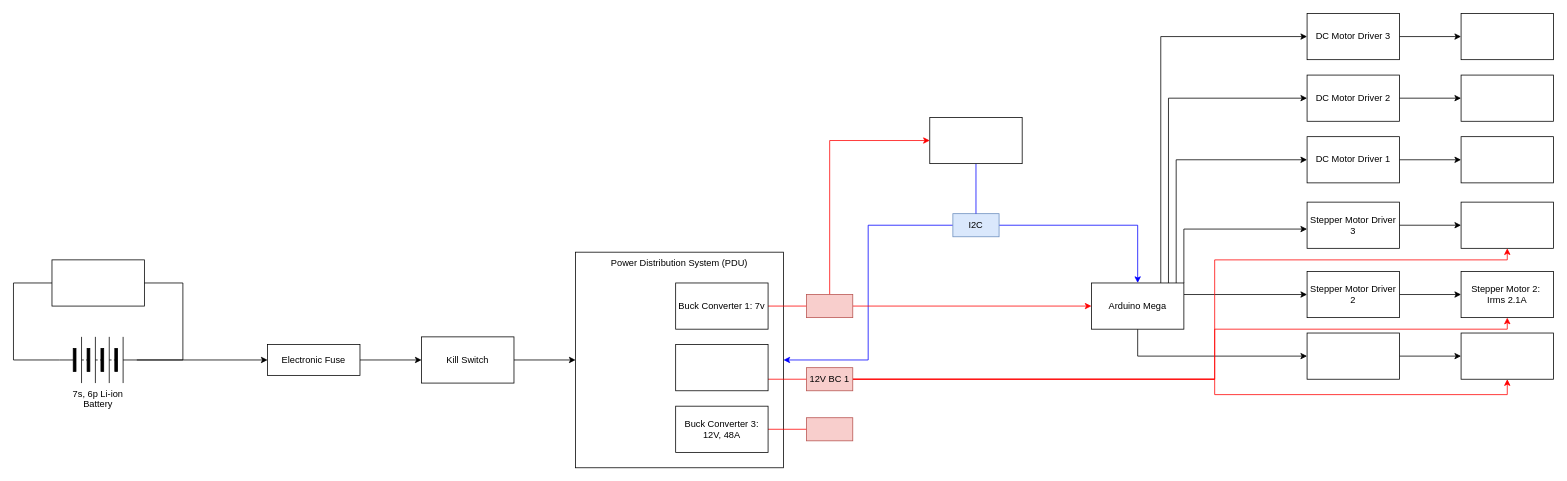
Image size: 1567x481. Some labels were removed from this diagram. The shapes that lost their labels are listed below. From the top down, each one's centre as x and y in pixels, then its label:
pixel 975 140: Raspberry Pi
pixel 1506 224: Stepper Motor 3: Irms 1.7A
pixel 97 282: BMS: 100A
pixel 829 306: 7v
pixel 721 367: Buck Converter 2: 12V, 48A
pixel 1352 355: Stepper Motor Driver 1
pixel 1506 355: Stepper Motor 1: Irms 5.5A
pixel 829 429: 12V BC 2
